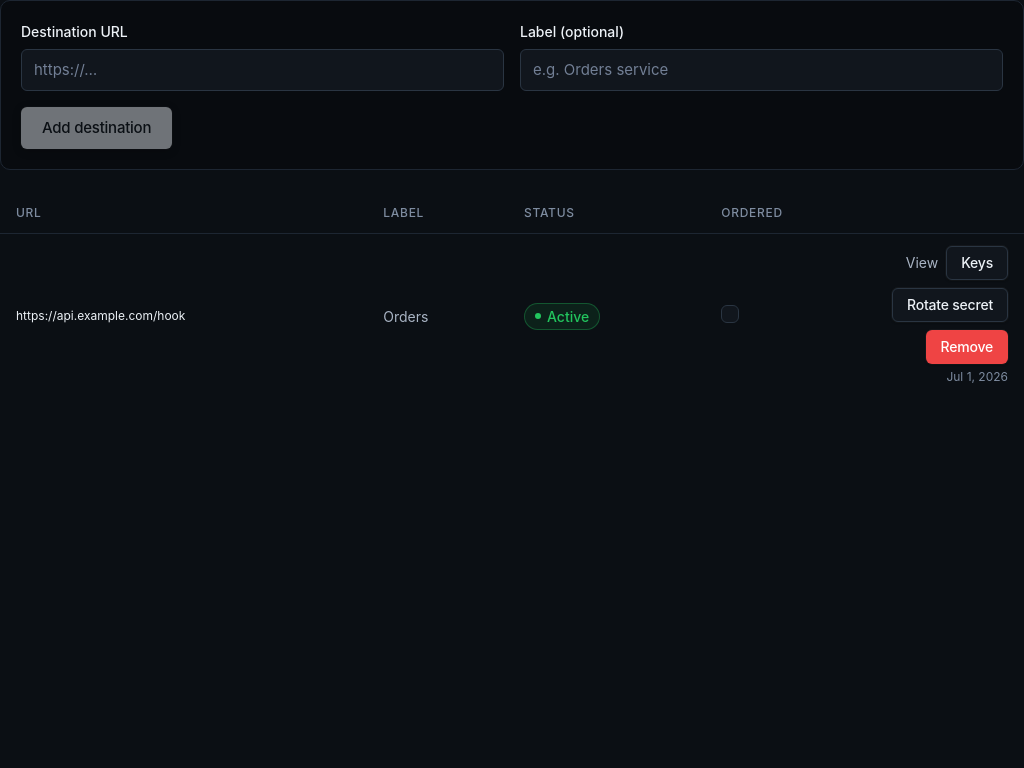
Scenario: ReplayDestinationsManager › confirms a remove and drops the row optimistically
Step 1. Click the button "Remove" → (967, 347), box top-left (926, 330), bottom-right (1008, 364)
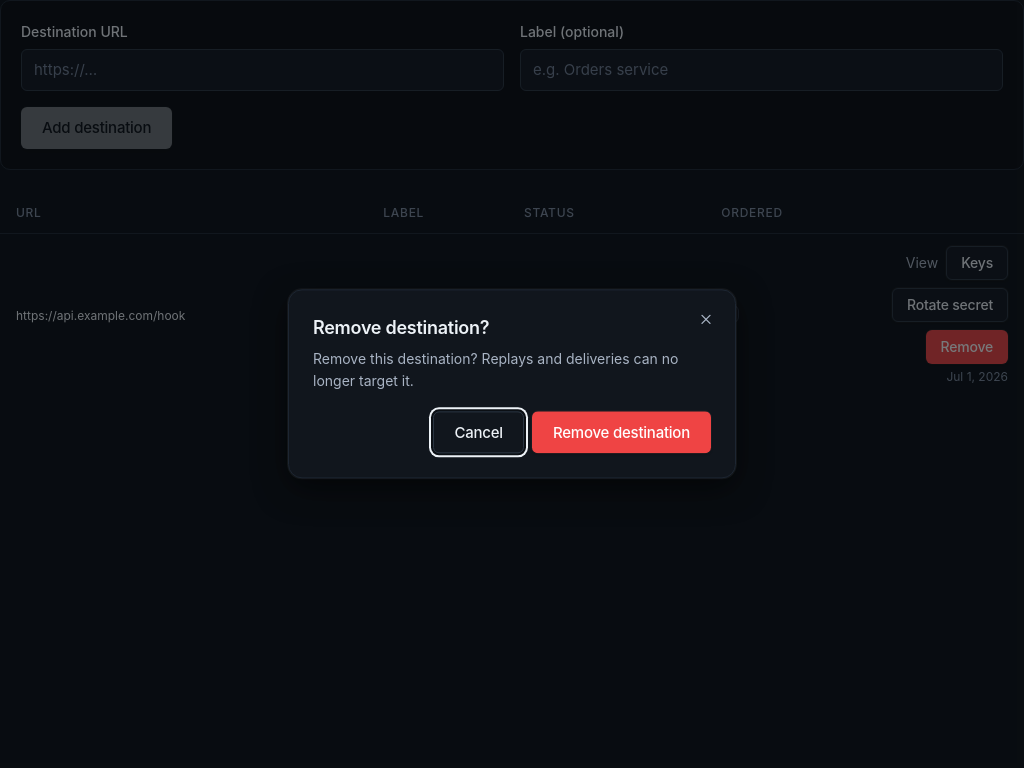
Now the text "Replays and deliveries can no longer target it" is shown, box top-left (313, 350), bottom-right (678, 389)
Step 2. Click the button "Remove destination" → (621, 433), box top-left (532, 412), bottom-right (711, 454)
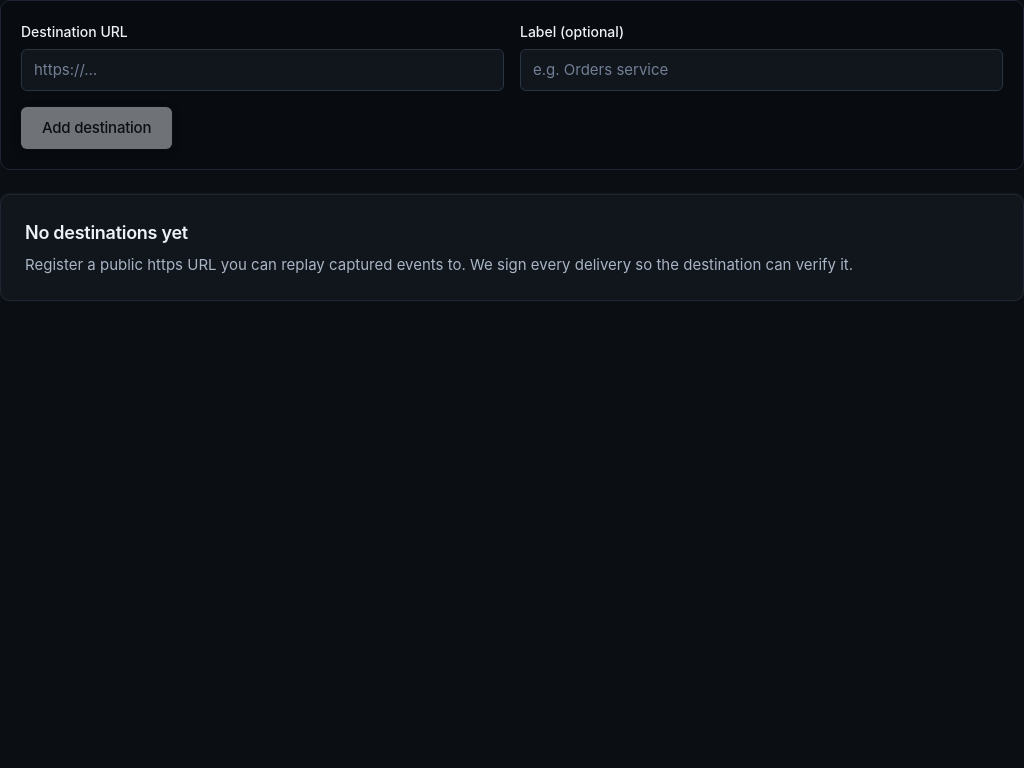
Now the text "https://api.example.com/hook" is gone
Now the heading "No destinations yet" is shown, box top-left (25, 222), bottom-right (188, 243)
